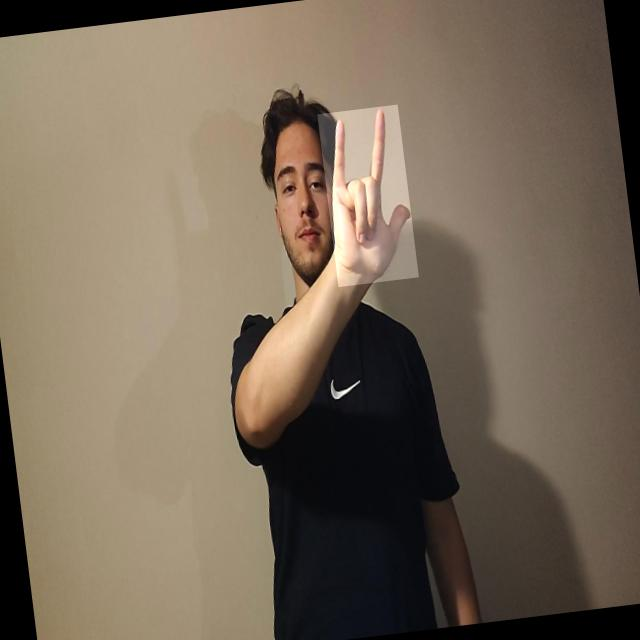iloveyou: (317, 104, 418, 287)
